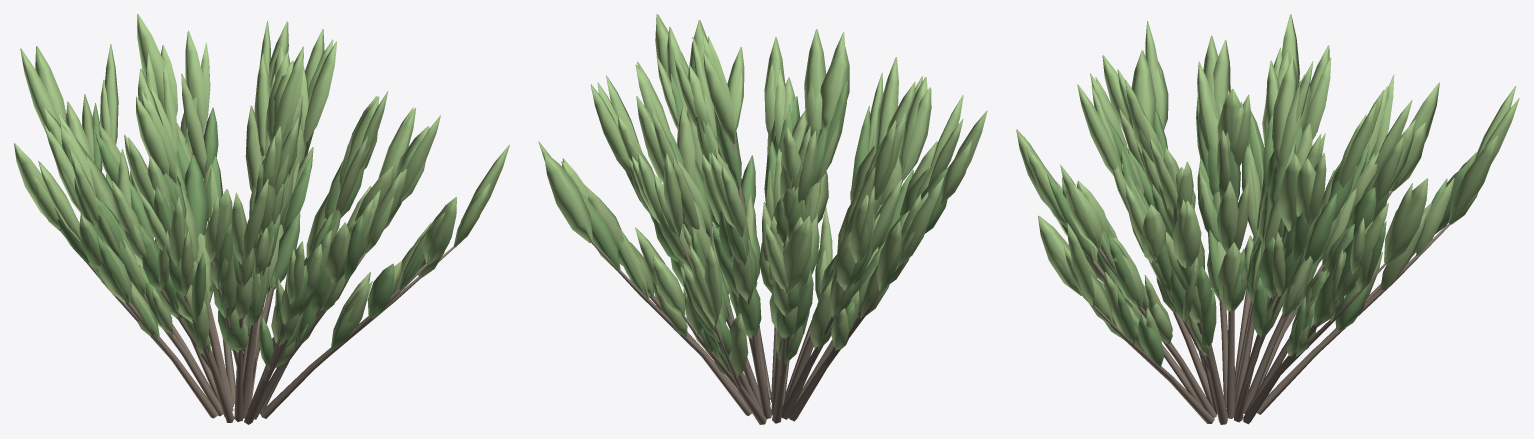
The model's file is chirca_bush_5.glb.
The picture shows the model from 3 angles, left to right: view 1: azimuth 30°, elevation 25°; view 2: azimuth 150°, elevation 25°; view 3: azimuth 270°, elevation 25°; orthographic projection. The views are drawn at different scales.
Parts seen in each view (by area): view 1: ChircaFoliageTip, ChircaFoliageMid, ChircaFoliageDeep, ChircaStems; view 2: ChircaFoliageTip, ChircaFoliageMid, ChircaFoliageDeep, ChircaStems; view 3: ChircaFoliageTip, ChircaFoliageDeep, ChircaFoliageMid, ChircaStems.
Boxes of the visible parts, x1,y1,x2,y2 form: ChircaFoliageTip: (14, 14, 509, 304); ChircaFoliageMid: (73, 73, 444, 368); ChircaFoliageDeep: (54, 103, 449, 370); ChircaStems: (60, 230, 454, 424); ChircaFoliageTip: (538, 14, 987, 326); ChircaFoliageMid: (584, 105, 937, 377); ChircaFoliageDeep: (580, 74, 948, 374); ChircaStems: (591, 144, 902, 424); ChircaFoliageTip: (1016, 14, 1519, 305); ChircaFoliageDeep: (1047, 97, 1468, 367); ChircaFoliageMid: (1056, 103, 1476, 356); ChircaStems: (1083, 190, 1450, 424).
Size of the model in its own units: 2.09 by 1.82 by 2.3.
